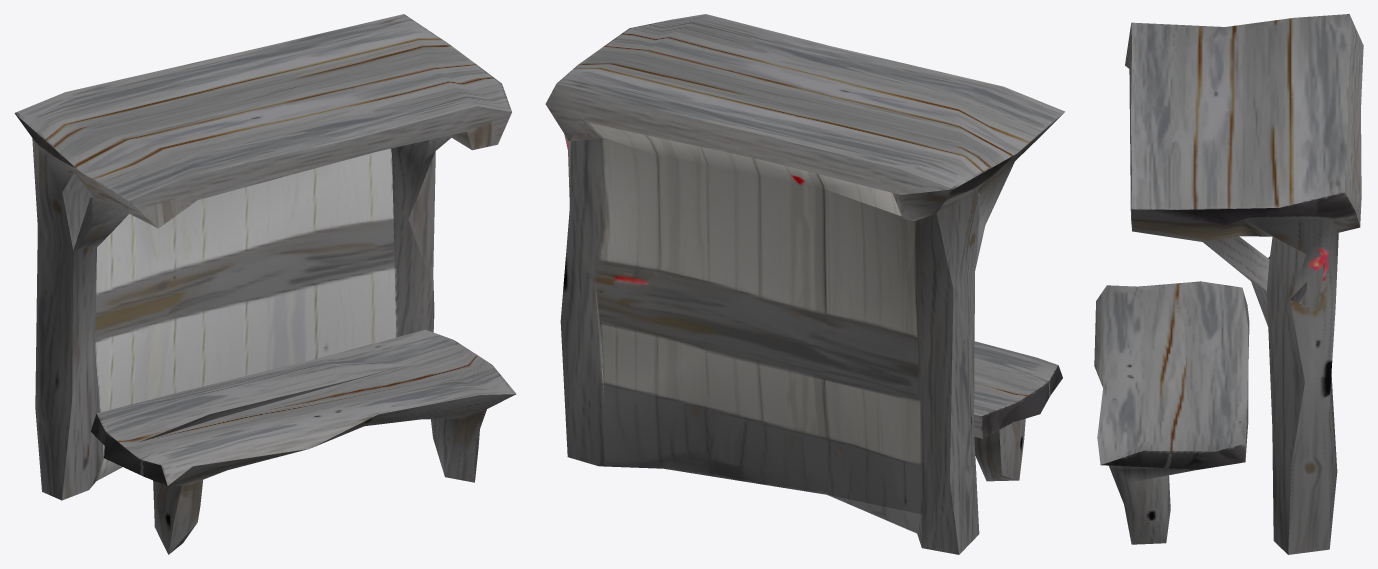
Rendered from beachhut-driftwood-bench.glb.
3 views of the same model, side by side, from view 1: azimuth 30°, elevation 25°; view 2: azimuth 150°, elevation 25°; view 3: azimuth 270°, elevation 25° (orthographic). The views are drawn at different scales.
Parts seen in each view (by area): view 1: geometry_0; view 2: geometry_0; view 3: geometry_0.
Part boxes in pixels (x1,y1,x2,y2): geometry_0: (14,14,516,554); geometry_0: (545,14,1064,554); geometry_0: (1094,14,1363,554).
Bounding box in the file's own units: 1 × 0.9078 × 0.5955.
1 material, 1 textured.
